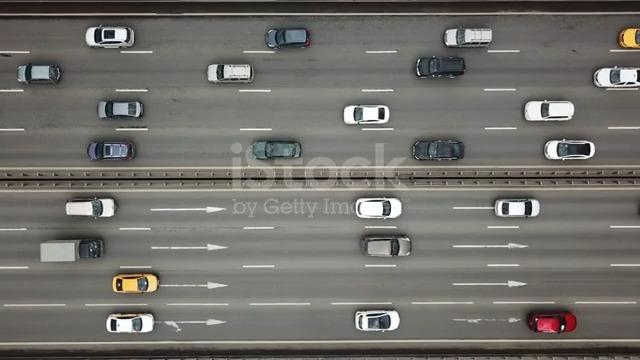Cars: (85, 25, 136, 49), (361, 234, 412, 258), (415, 56, 466, 79), (412, 139, 465, 161), (544, 139, 596, 161), (524, 100, 575, 122), (594, 66, 640, 90), (87, 140, 136, 162), (356, 197, 402, 220), (265, 27, 311, 50), (106, 313, 155, 334), (444, 27, 493, 48), (207, 63, 255, 84), (17, 63, 62, 85), (113, 273, 160, 294), (253, 140, 302, 160), (344, 105, 390, 126), (97, 100, 144, 120), (495, 198, 540, 218), (618, 28, 640, 49)
